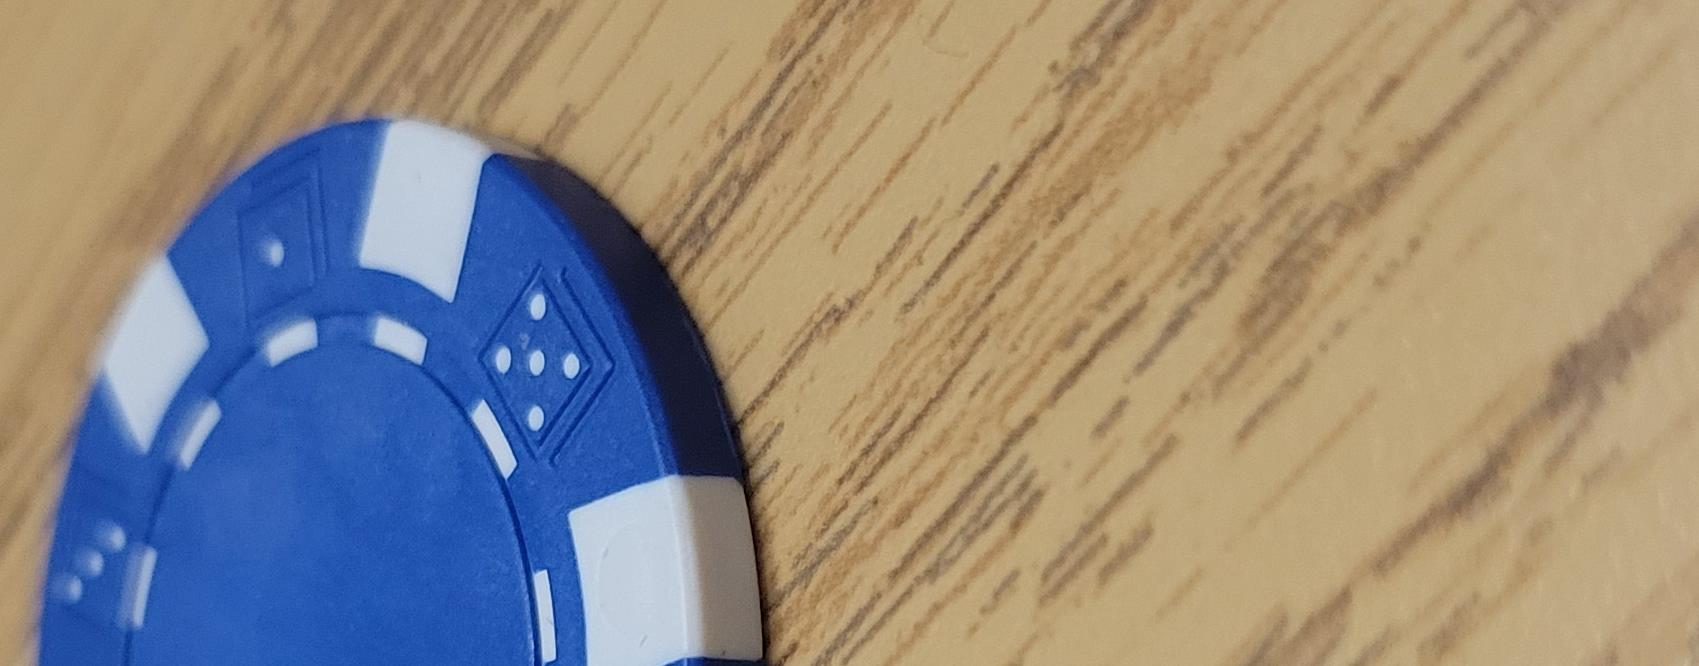Chip: (1, 274, 986, 666)
